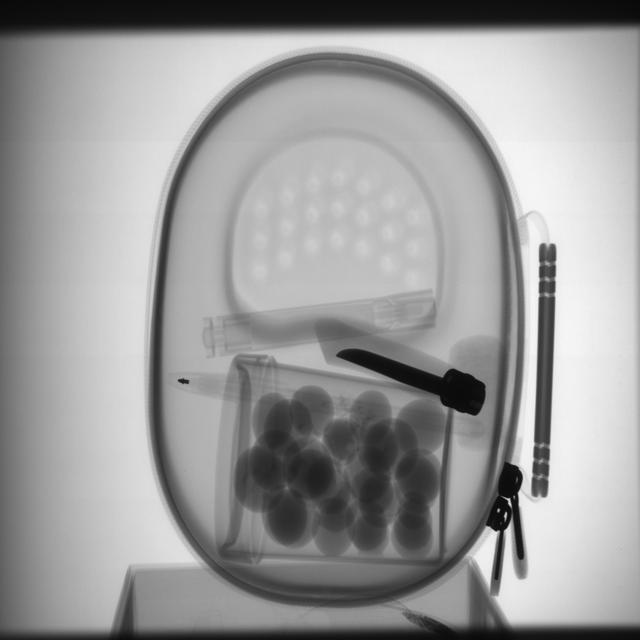knife: (332, 334, 494, 422)
